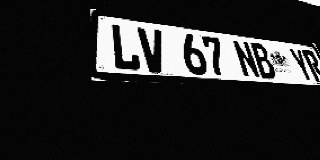6: (178, 33, 209, 75)
7: (200, 36, 230, 77)
B: (249, 42, 278, 79)
L: (110, 23, 141, 72)
N: (231, 40, 261, 78)
R: (301, 49, 320, 82)
V: (137, 27, 168, 73)
Y: (287, 47, 316, 82)
